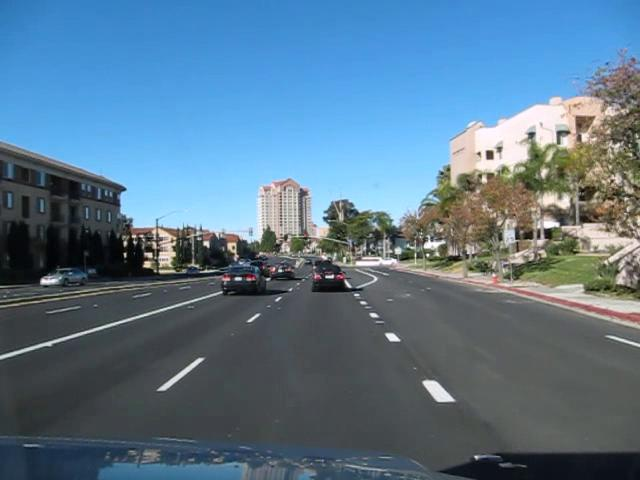speedLimit25: (503, 228, 515, 243)
